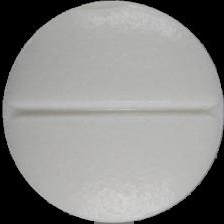76237-228: (0, 0, 224, 224)
